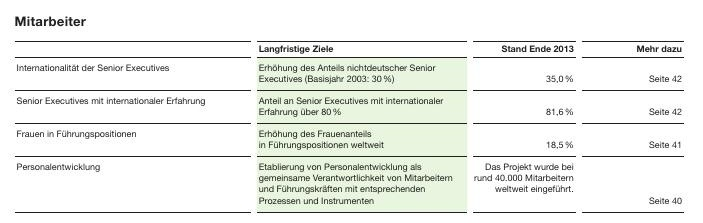table: (0, 0, 703, 223)
